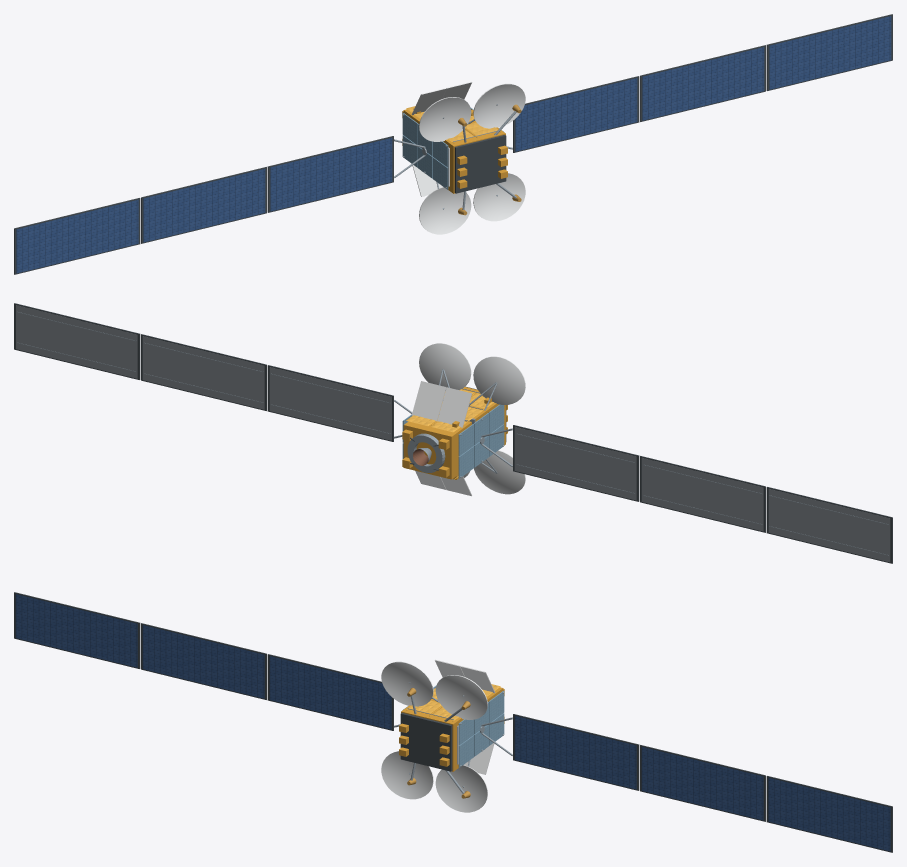
The model's file is spacebus-4000c3-four.glb.
The picture shows the model from 3 angles, top to bottom: view 1: azimuth 30°, elevation 25°; view 2: azimuth 150°, elevation 25°; view 3: azimuth 330°, elevation 25°; orthographic projection.
Visible parts, largest first — view 1: Solar cell panel (×6), Communications reflector (×4), Solar panel frame (×6), Earth-facing deck, Payload module; view 2: Rear array substrate (×6), Communications reflector (×3), Solar panel frame (×6), Deployed radiator leaf (×2), Service module, Launch adapter ring; view 3: Solar cell panel (×6), Communications reflector (×4), Solar panel frame (×6), Earth-facing deck, Payload module.
Part boxes in pixels (x1,y1,x2,y2): Solar cell panel (×6): (16, 16, 891, 273); Communications reflector (×4): (419, 83, 525, 234); Solar panel frame (×6): (14, 14, 892, 274); Earth-facing deck: (454, 135, 506, 193); Payload module: (443, 121, 505, 193); Rear array substrate (×6): (16, 305, 890, 562); Communications reflector (×3): (419, 343, 525, 494); Solar panel frame (×6): (14, 303, 892, 563); Deployed radiator leaf (×2): (412, 381, 471, 427); Service module: (403, 421, 471, 479); Launch adapter ring: (407, 433, 445, 472); Solar cell panel (×6): (15, 594, 890, 851); Communications reflector (×4): (381, 661, 487, 812); Solar panel frame (×6): (14, 592, 892, 852); Earth-facing deck: (400, 713, 452, 771); Payload module: (401, 699, 463, 771).
Size of the model in its own units: 36.95 by 5.46 by 4.63.
11 materials, 2 textured.
